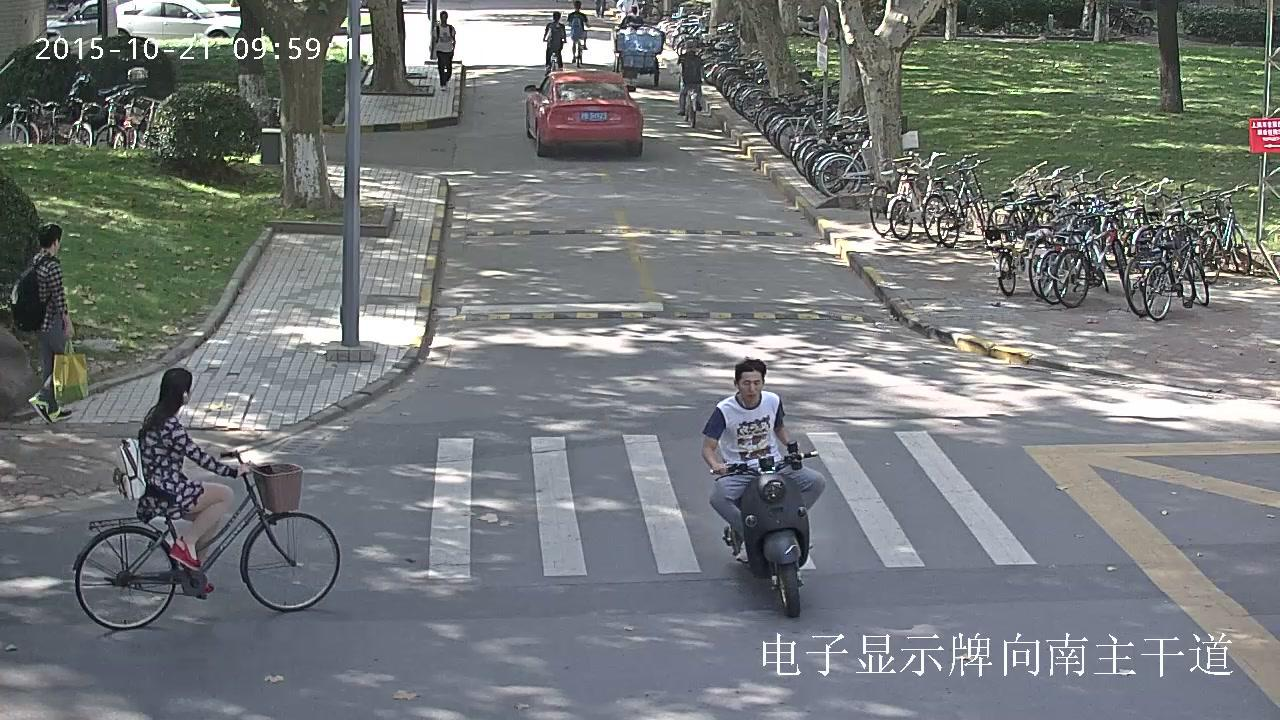person: (72, 367, 340, 630), (111, 368, 259, 591), (701, 359, 826, 617), (701, 359, 824, 563), (9, 221, 88, 423), (677, 40, 705, 128), (677, 40, 705, 114), (432, 10, 455, 90), (618, 6, 644, 72), (567, 0, 592, 67), (542, 11, 566, 75), (542, 12, 566, 75), (567, 0, 591, 62), (618, 6, 644, 61)
